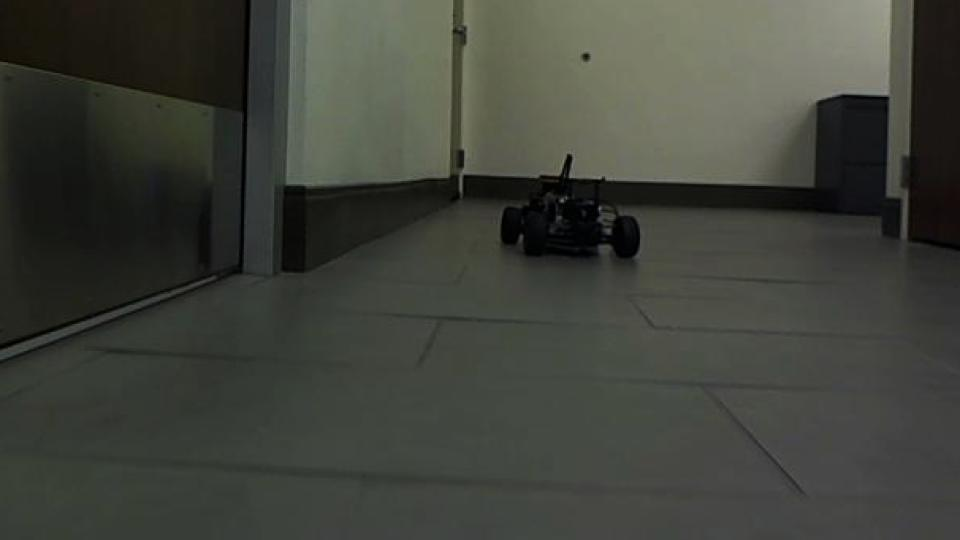car: (496, 151, 643, 262)
